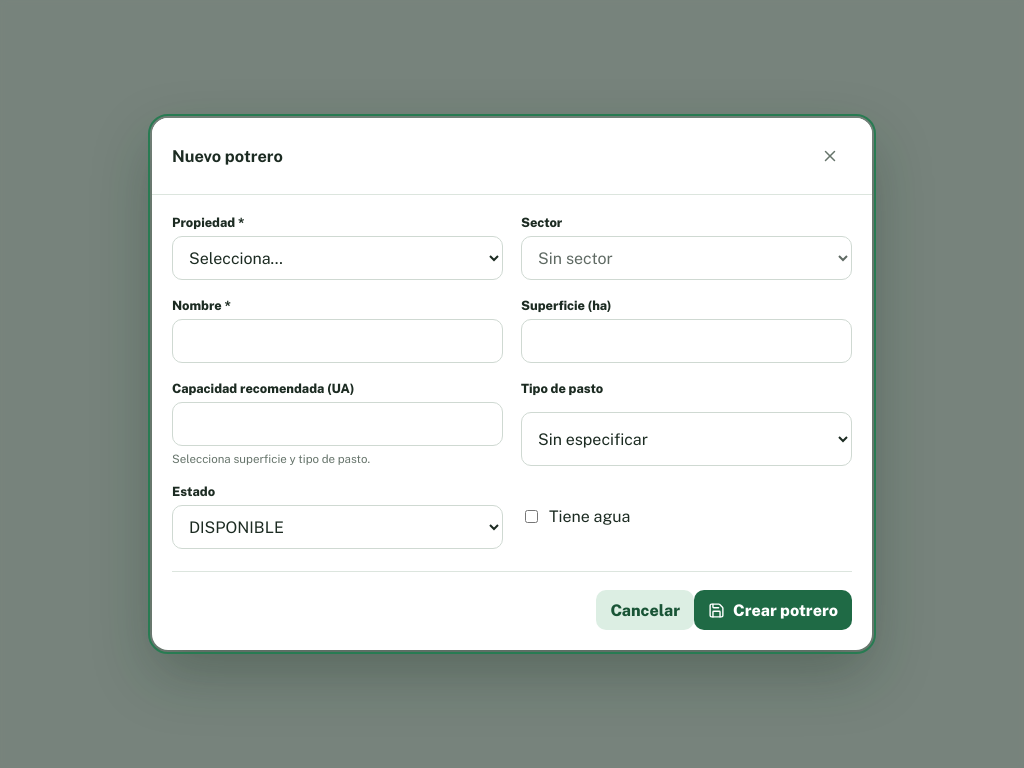
PotreroFormModal › habilita el sector recién después de elegir una propiedad
Expected: the dropdown labelled "Sector" is disabled, [522,238,851,278]
Select "La Esperanza" in the dropdown labelled "Propiedad *" at (338, 258), box [173,238,502,278]
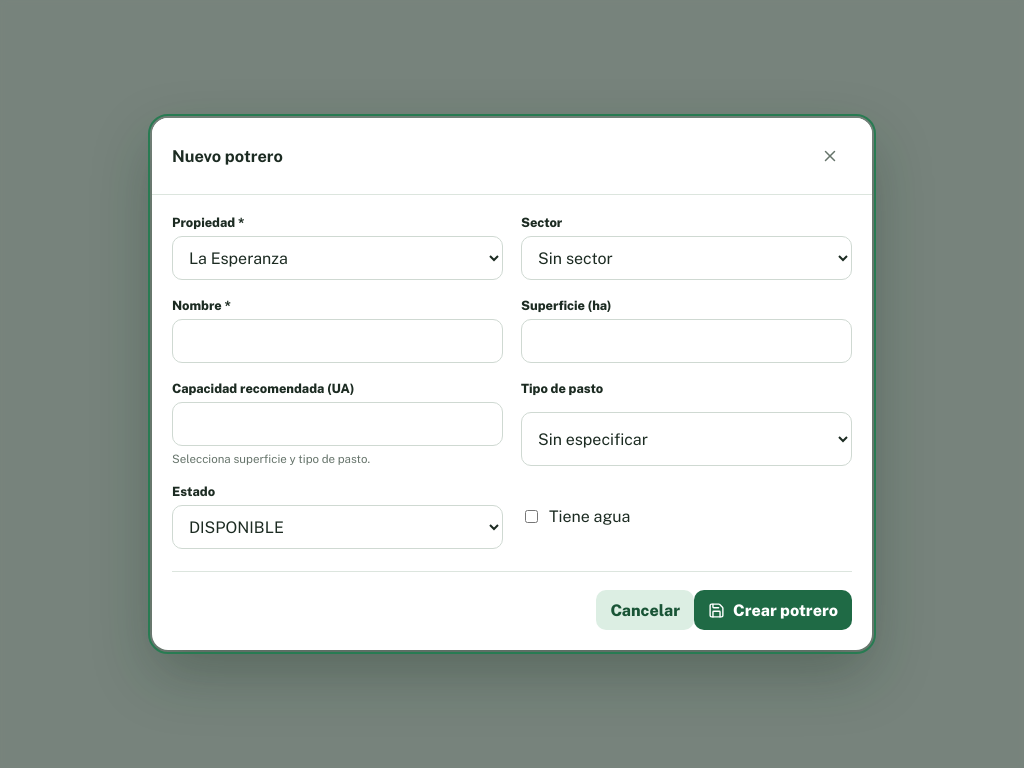
Result: the dropdown labelled "Sector" is enabled at [522,238,851,278]
